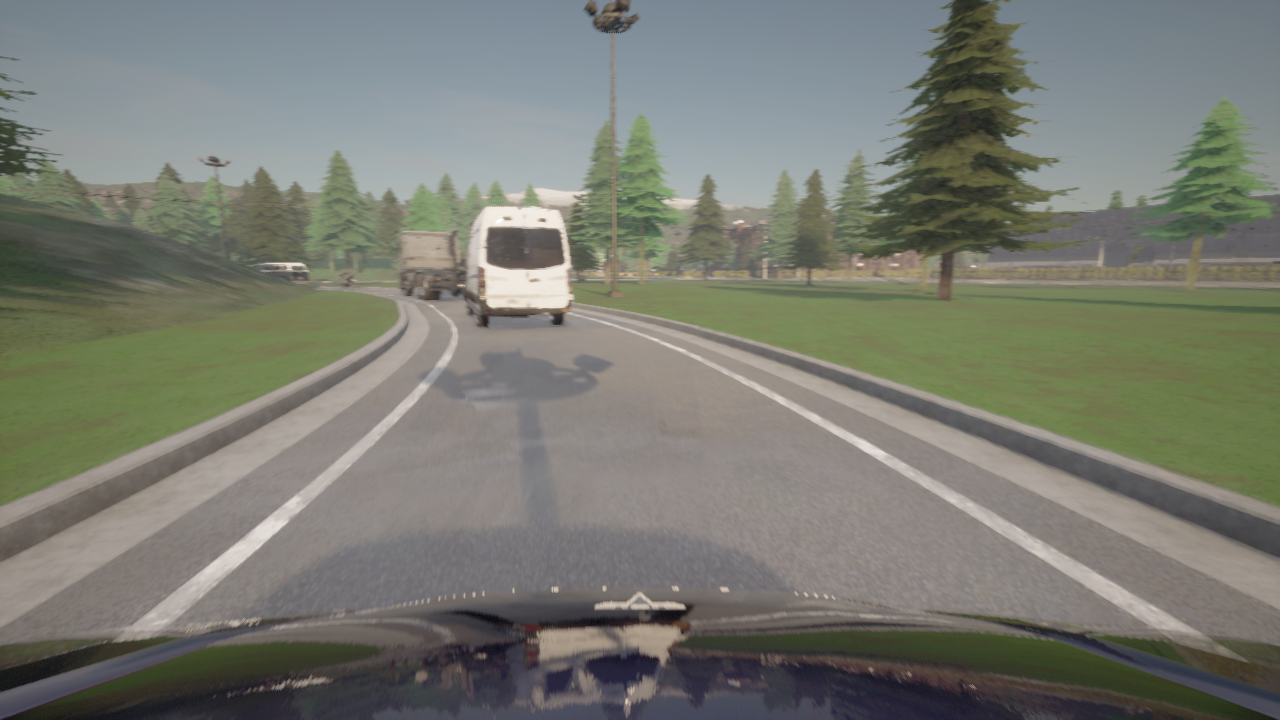cyclist: (0, 588, 1279, 719), (459, 206, 572, 328), (391, 230, 466, 301), (254, 262, 309, 284), (338, 273, 356, 289)
